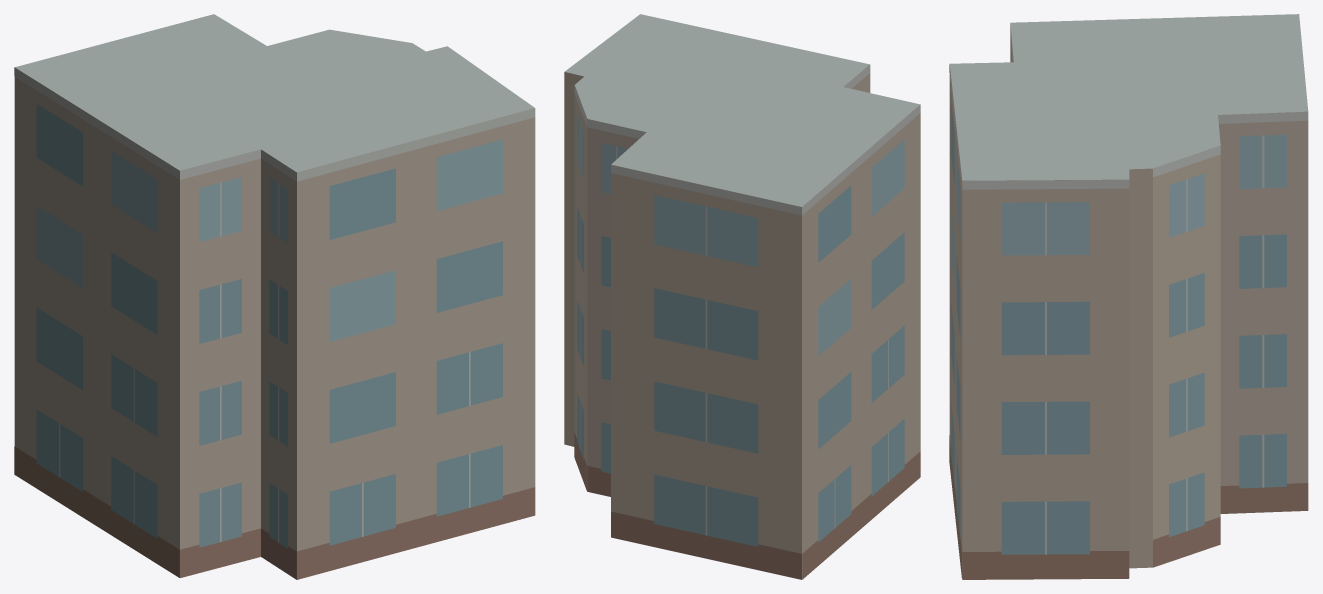
File: survey-upis-32499357.glb
3 views of the same model, side by side, from view 1: azimuth 30°, elevation 25°; view 2: azimuth 150°, elevation 25°; view 3: azimuth 270°, elevation 25° (orthographic). The views are drawn at different scales.
Parts seen in each view (by area): view 1: survey-upis-32499357.tmp; view 2: survey-upis-32499357.tmp; view 3: survey-upis-32499357.tmp.
Boxes of the visible parts, <box> form: survey-upis-32499357.tmp: <box>14,14,535,579</box>; survey-upis-32499357.tmp: <box>564,14,920,579</box>; survey-upis-32499357.tmp: <box>949,14,1308,579</box>.
Size of the model in its own units: 9.73 by 10.85 by 8.85.
